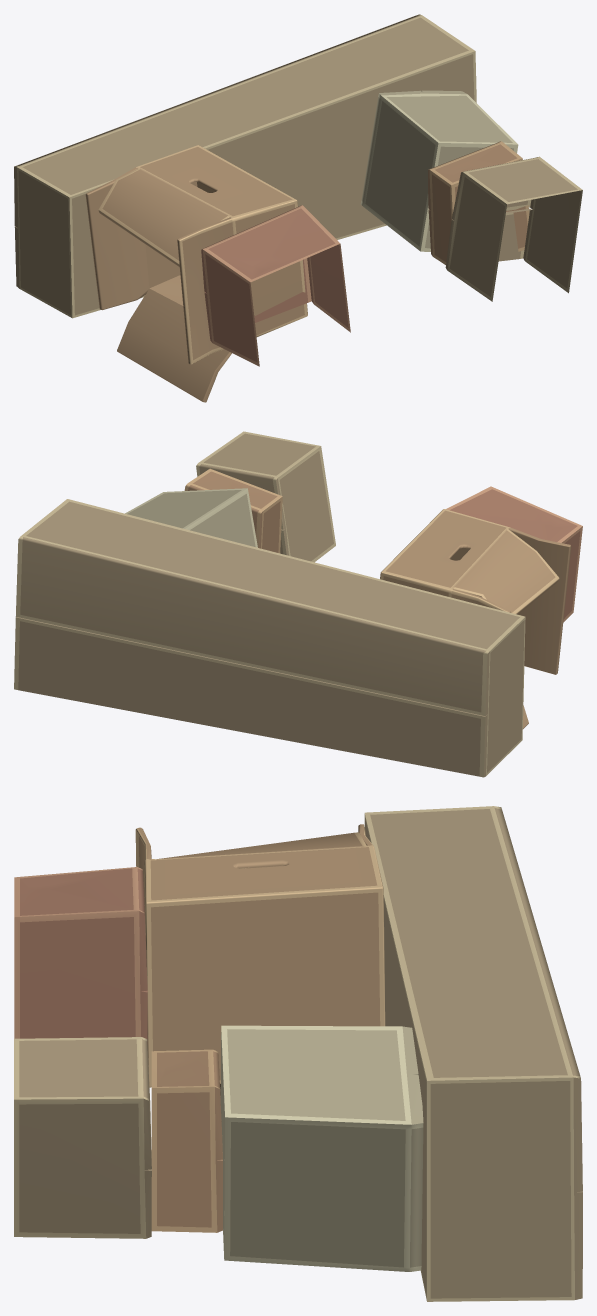
3 renders of one model, top to bottom at view 1: azimuth 30°, elevation 25°; view 2: azimuth 150°, elevation 25°; view 3: azimuth 270°, elevation 25°, orthographic. The views are drawn at different scales.
Visible parts, largest first — view 1: Box; view 2: Box; view 3: Box.
Boxes of the visible parts, x1=… form: Box: x1=14, y1=14, x2=582, y2=402; Box: x1=14, y1=431, x2=582, y2=777; Box: x1=14, y1=806, x2=582, y2=1301.
Size of the model in its own units: 415 by 179 by 315.
